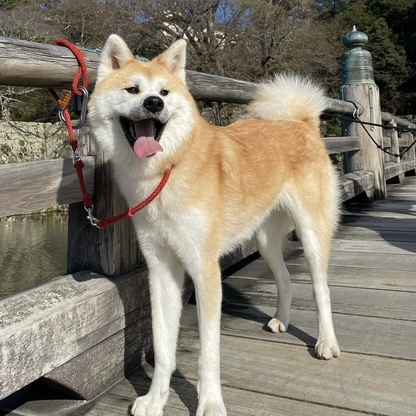akita: (81, 25, 355, 416)
